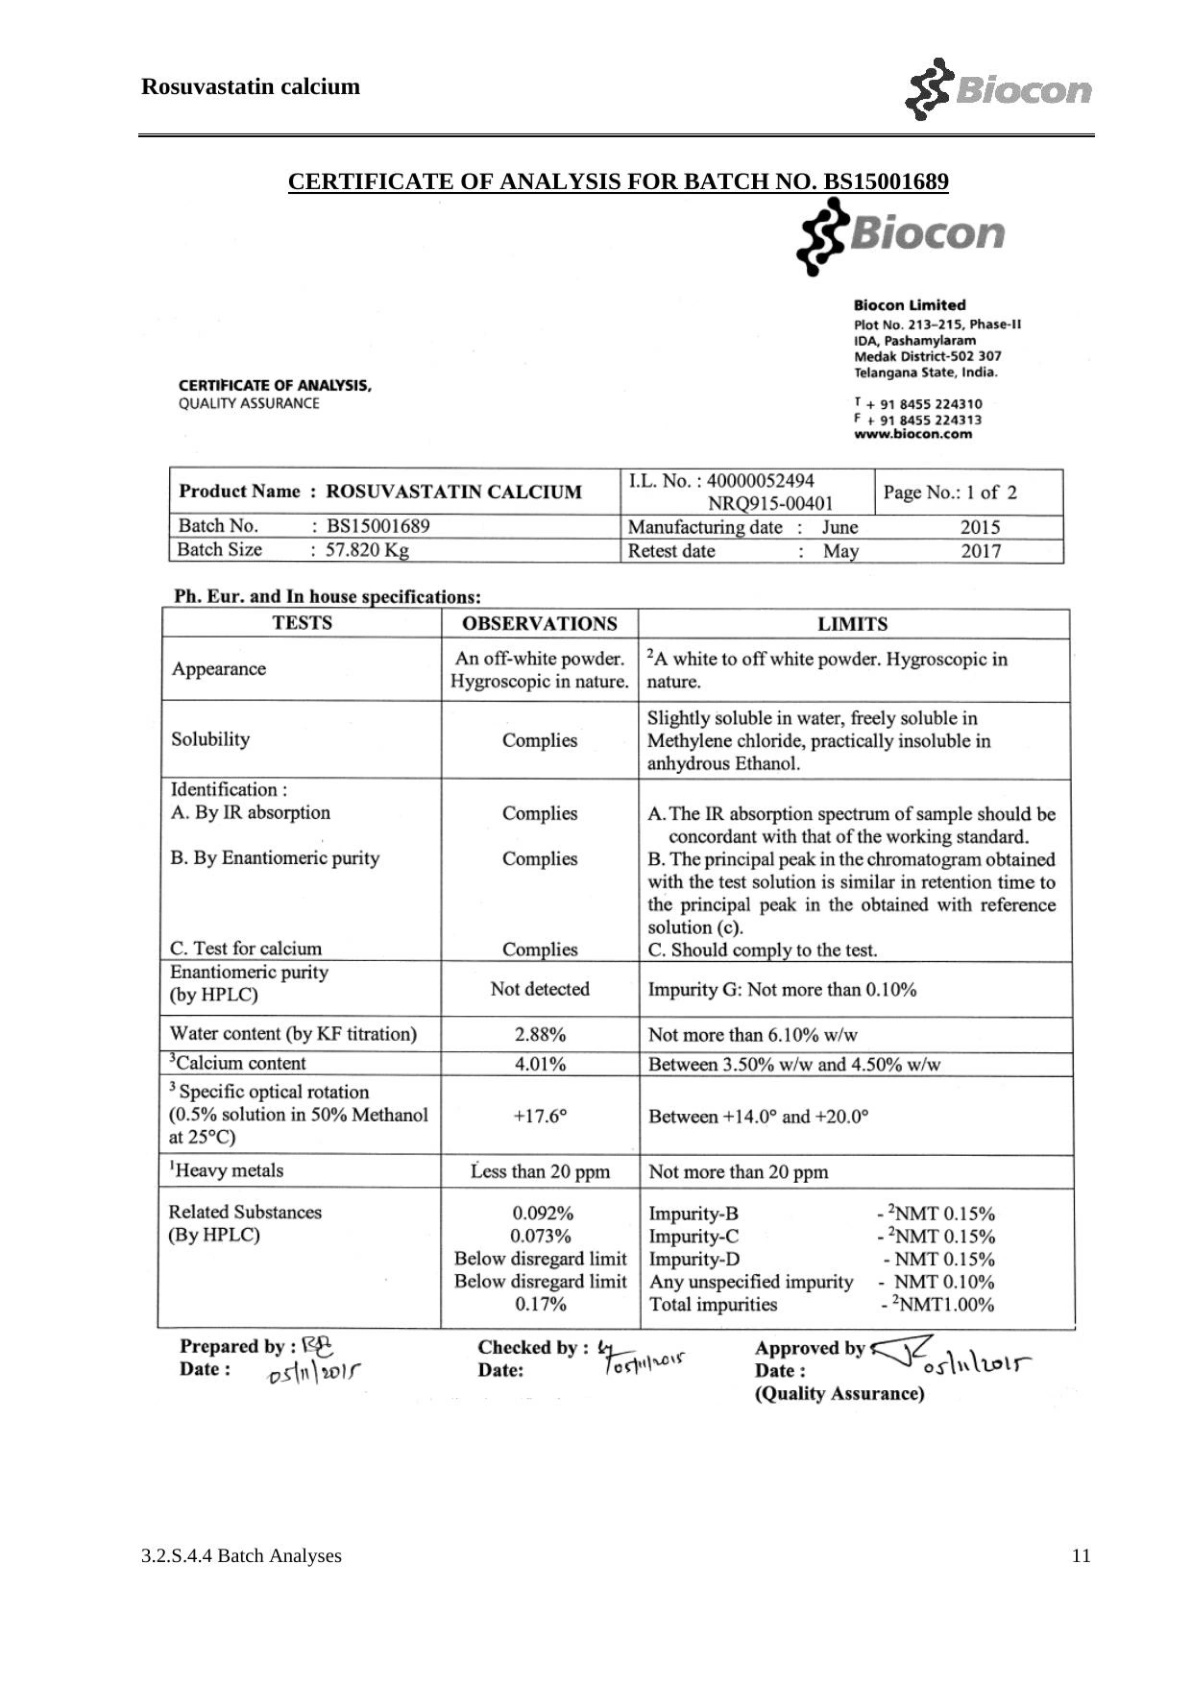full_lined: (156, 605, 1078, 1332)
merged_cells: (166, 464, 1066, 563)
